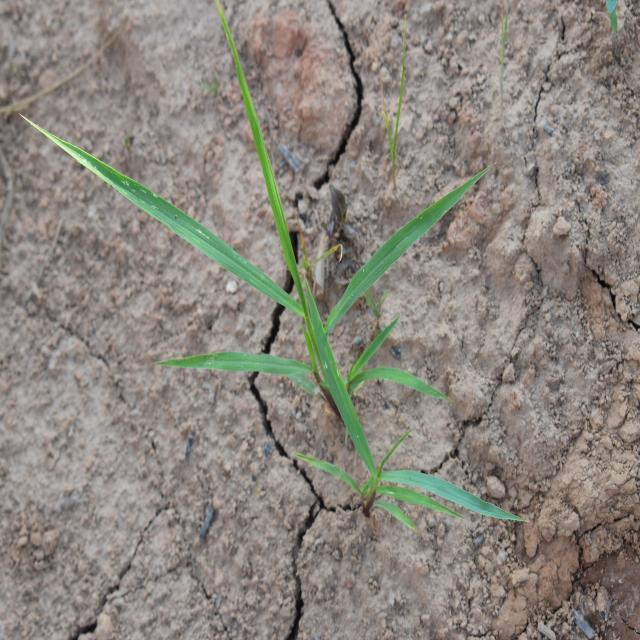green_foxtail: (53, 72, 446, 436), (323, 409, 503, 558)
